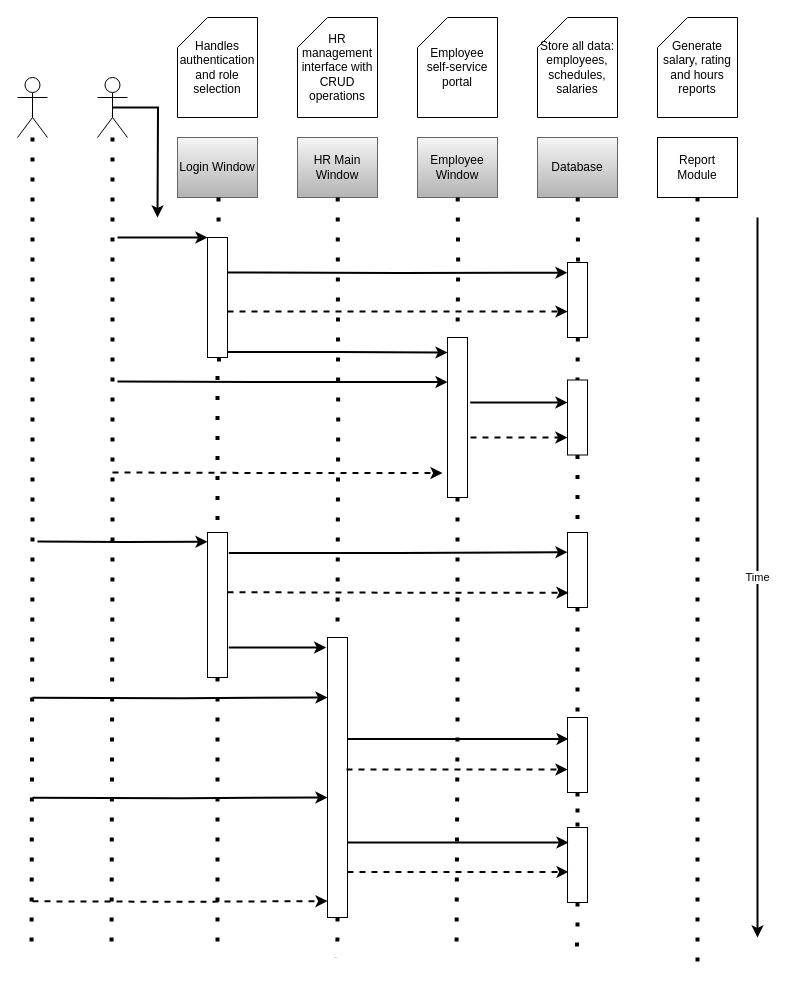
Some shapes in this 787 by 998 pixel diagram are drawn without their labels. The box of each missing label's shape, as (x1, y1, x2, y2) in pixels:
Employee: (96, 76, 128, 138)
HR: (16, 76, 48, 138)
